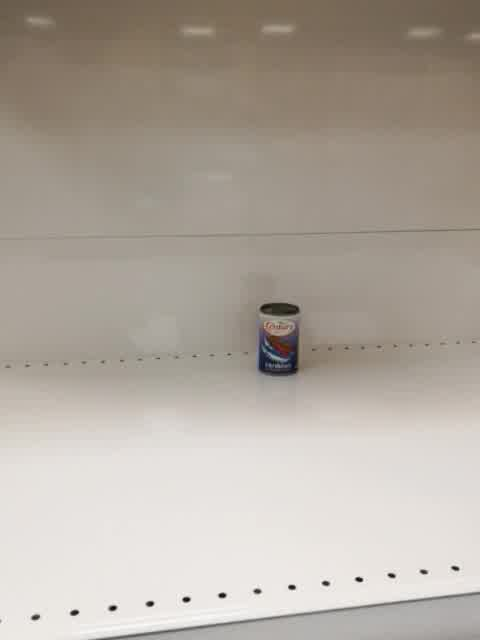sardine: (258, 302, 301, 377)
